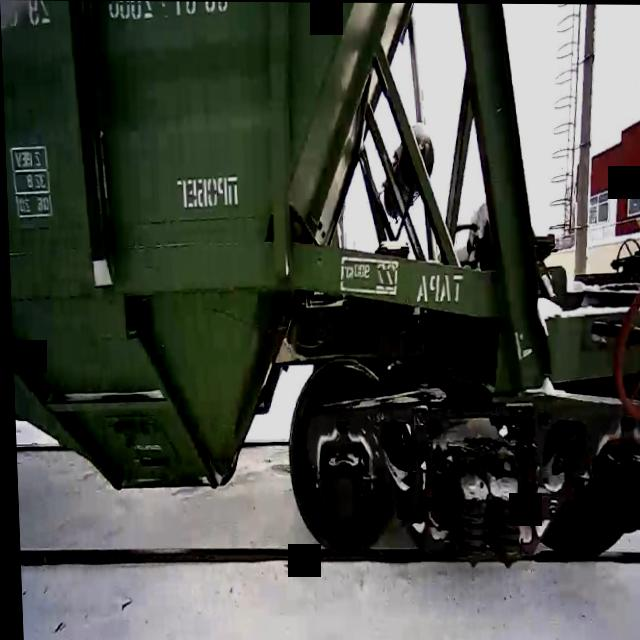hopper: (0, 0, 640, 580)
